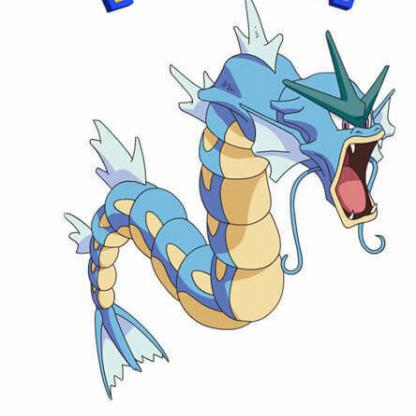Gyarados: (21, 35, 416, 413)
